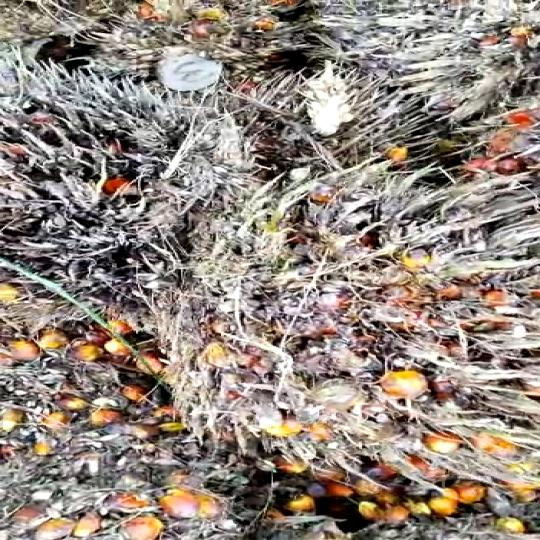terlalu masak: (145, 195, 540, 480)
